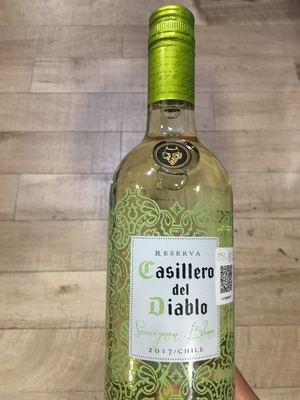casillero del diablo sauvignon blanc: (110, 10, 242, 400)
